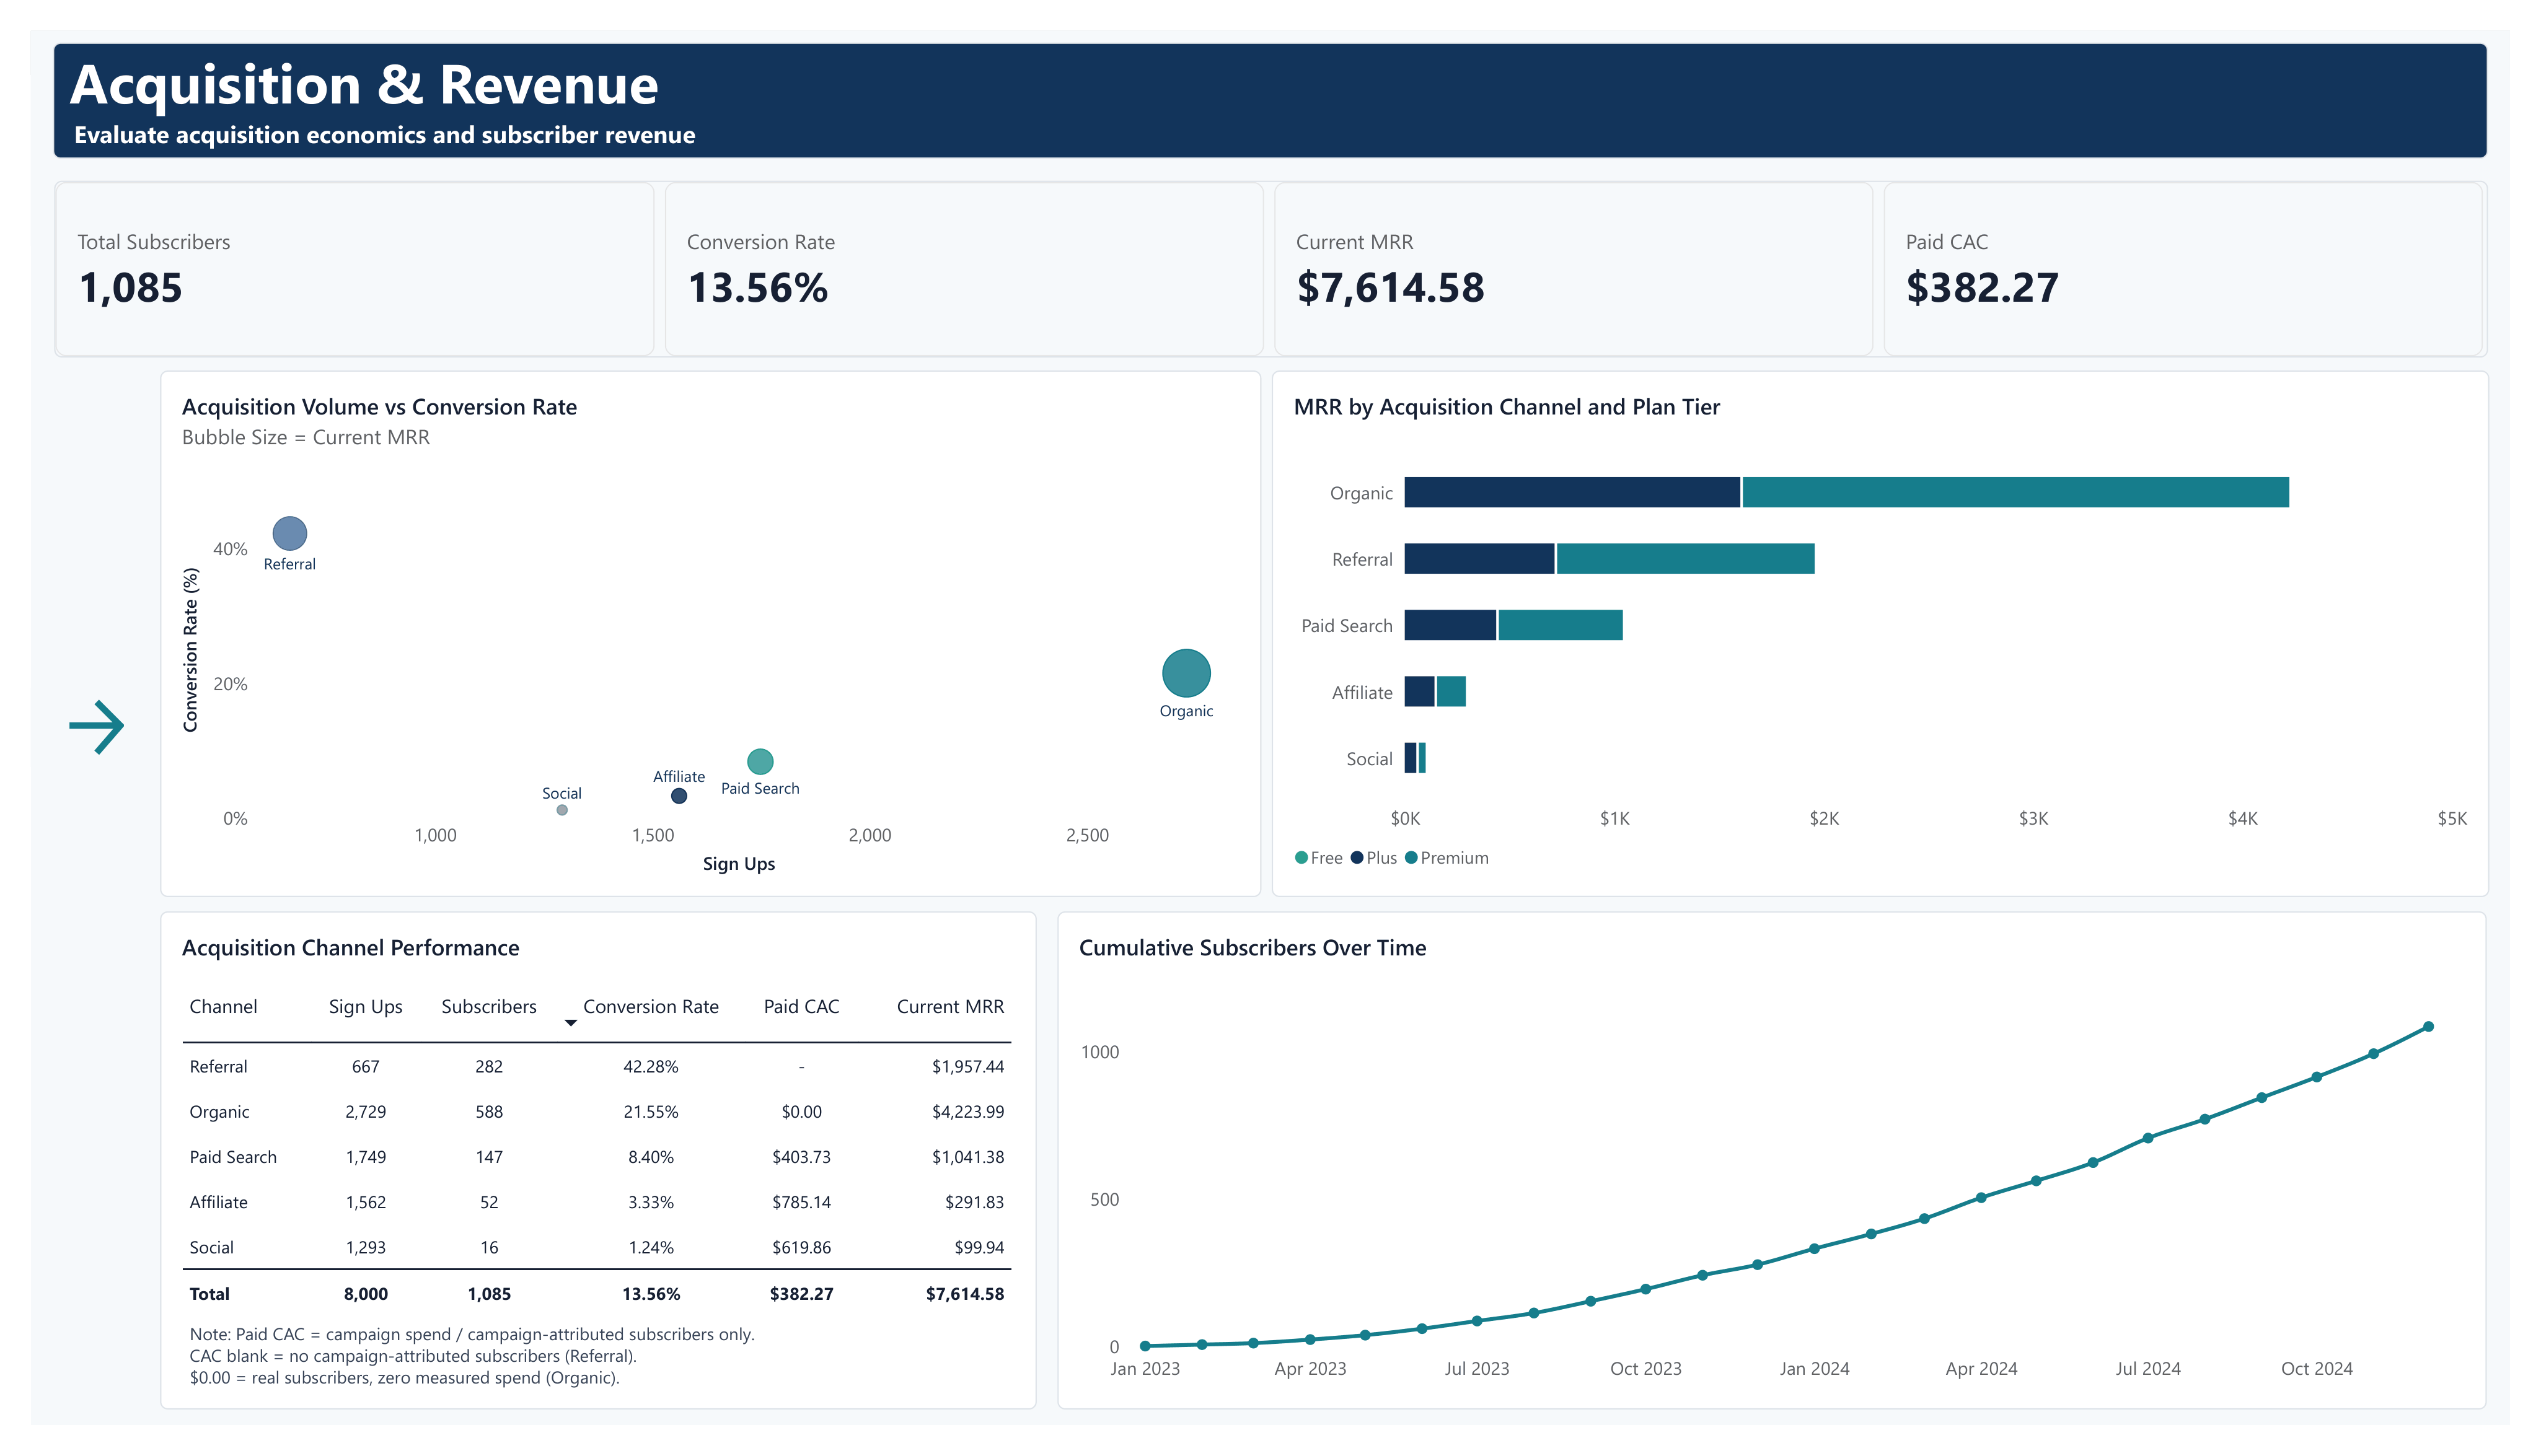

What the dashboard file says about the page in this screenshot:
{"tool":"powerbi","page":{"name":"Acquisition & Revenue","canvas":[1920,1080],"ordinal":2},"visuals":[{"type":"cardVisual","fields":{"Data":["Measures (2).Total Subscribers","Measures (2).Conversion Rate","Measures (2).Current MRR","Measures (2).CAC"]},"box":[17.7,116.4,1885,137],"z":0},{"type":"tableEx","title":"Acquisition Channel Performance","fields":{"Values":["master.acquisition_channel","Measures (2).Total Users","Measures (2).Total Subscribers","Measures (2).Conversion Rate","Measures (2).CAC2","Measures (2).Current MRR"]},"box":[99.8,682.3,679.7,385.7],"z":1000},{"type":"scatterChart","title":"Acquisition Volume vs Conversion Rate","fields":{"Category":["master.acquisition_channel"],"Y":["Measures (2).Conversion Rate"],"X":["Measures (2).Total Users"],"Size":["Measures (2).Current MRR"],"Series":["master.acquisition_channel"]},"box":[100.4,262.9,852.2,407.6],"z":2000},{"type":"actionButton","box":[0,505.4,99.3,68.4],"z":3000},{"type":"textbox","box":[17.4,8.7,1885.5,89.9],"z":4000},{"type":"barChart","title":"MRR by Acquisition Channel and Plan Tier","fields":{"Category":["master.acquisition_channel"],"Series":["master.plan_tier"],"Y":["Measures (2).Current MRR"]},"box":[961.5,262.9,942.3,407.6],"z":6000},{"type":"lineChart","title":"Cumulative Subscribers Over Time","fields":{"Y":["Measures (2).Cumulative Subscribers Total"],"Category":["master.signup_month.Variation.Date Hierarchy.Year","master.signup_month.Variation.Date Hierarchy.Month"]},"box":[794.6,682.3,1107.7,385.5],"z":7000},{"type":"textbox","box":[100.6,1000,664.4,56],"z":8000}]}

Visuals, with their boxes on the page's 1920x1080 design canvas (x1, y1, x2, y2). These are canvas units, not pixel positions in the 2541x1456 screenshot, which may show the page scaled, cropped or inside an application window:
cardVisual - Measures (2).Total Subscribers x Measures (2).Conversion Rate: Rect(18, 116, 1903, 253)
"Acquisition Channel Performance" tableEx: Rect(100, 682, 780, 1068)
"Acquisition Volume vs Conversion Rate" scatterChart: Rect(100, 263, 953, 670)
actionButton: Rect(0, 505, 99, 574)
textbox: Rect(17, 9, 1903, 99)
"MRR by Acquisition Channel and Plan Tier" barChart: Rect(962, 263, 1904, 670)
"Cumulative Subscribers Over Time" lineChart: Rect(795, 682, 1902, 1068)
textbox: Rect(101, 1000, 765, 1056)
